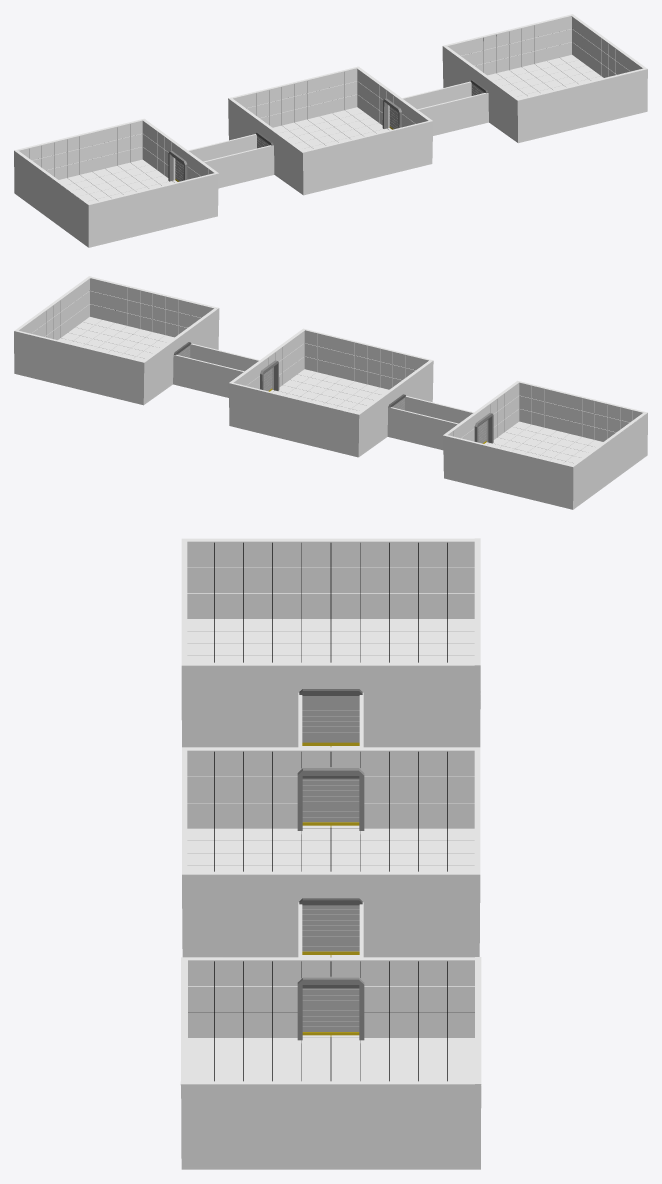
Rendered from Location (13).fbx.
3 renders of one model, top to bottom at view 1: azimuth 30°, elevation 25°; view 2: azimuth 150°, elevation 25°; view 3: azimuth 270°, elevation 25°, orthographic. The views are drawn at different scales.
Parts seen in each view (by area): view 1: Location 1lvl, Location 1lvl.002, Location 1lvl.004, Location 1lvl floor, Location 1lvl.001, Location 1lvl.003; view 2: Location 1lvl, Location 1lvl.001, Location 1lvl.003, Location 1lvl floor, Location 1lvl.004, Location 1lvl.002; view 3: Location 1lvl, Location 1lvl floor.
Boxes of the visible parts, x1,y1,x2,y2 form: Location 1lvl: (14,14,647,246); Location 1lvl.002: (203,145,274,188); Location 1lvl.004: (417,93,488,135); Location 1lvl floor: (14,87,647,247); Location 1lvl.001: (173,134,256,180); Location 1lvl.003: (388,81,471,127); Location 1lvl: (14,276,647,508); Location 1lvl.001: (387,407,458,450); Location 1lvl.003: (173,354,244,397); Location 1lvl floor: (14,349,647,509); Location 1lvl.004: (190,343,273,389); Location 1lvl.002: (405,396,488,442); Location 1lvl: (180,538,481,1166); Location 1lvl floor: (181,621,480,1169).
Size of the model in its own units: 90.38 by 21.04 by 6.71.
